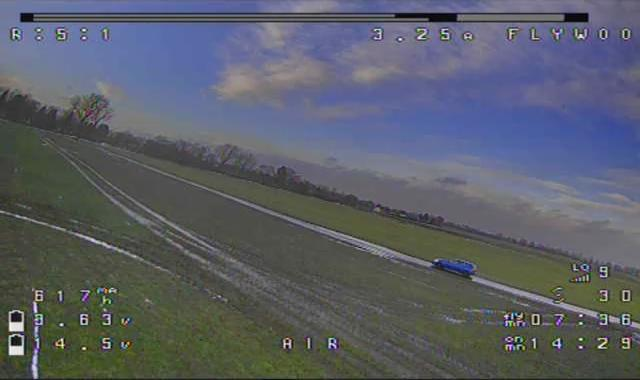car: (422, 249, 486, 281)
